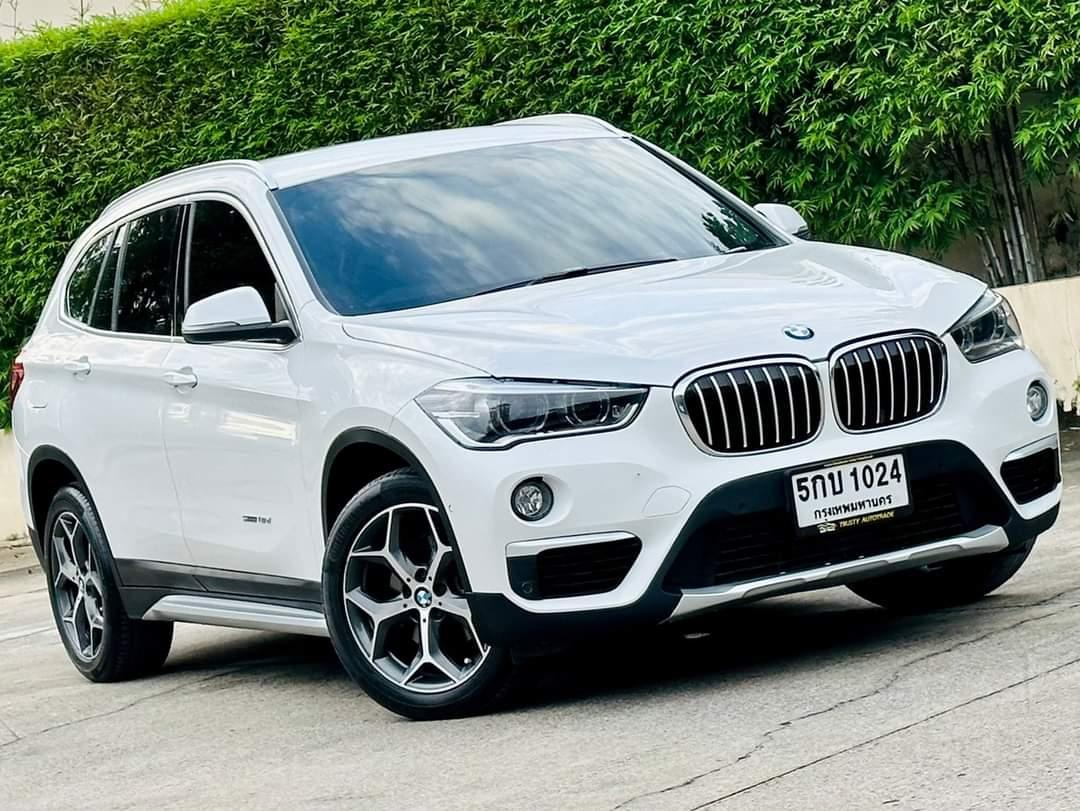license-plate: (784, 441, 917, 544)
